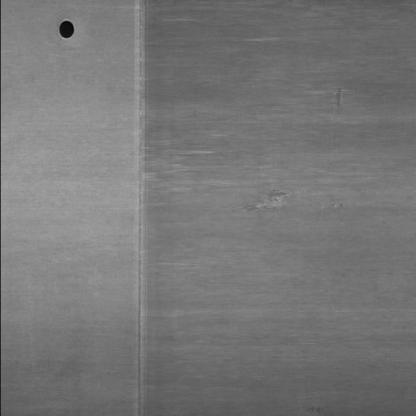punching_hole: (51, 15, 82, 45)
rolled_pit: (325, 84, 350, 118)
welding_line: (124, 2, 152, 415)
